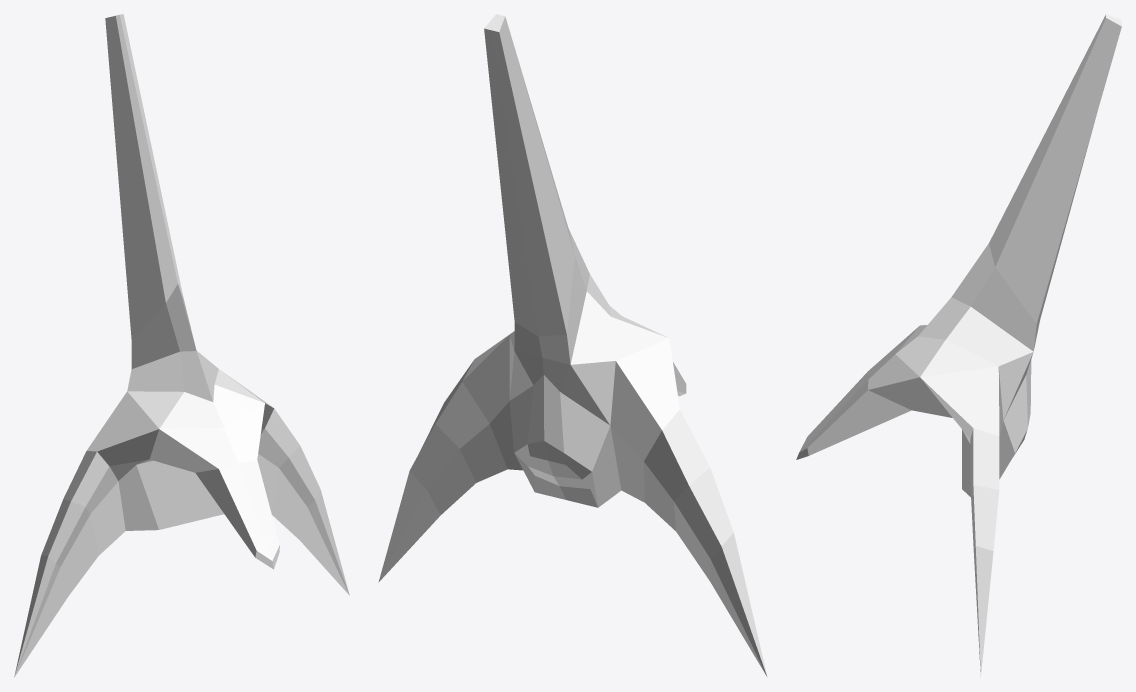
Rendered from head_31.fbx.
The picture shows the model from 3 angles, left to right: view 1: azimuth 30°, elevation 25°; view 2: azimuth 150°, elevation 25°; view 3: azimuth 270°, elevation 25°; orthographic projection. The views are drawn at different scales.
Visible parts, largest first — view 1: Cube.159; view 2: Cube.159; view 3: Cube.159.
Part boxes in pixels (x1,y1,x2,y2): Cube.159: (14,14,349,677); Cube.159: (378,14,767,677); Cube.159: (796,14,1121,677).
Size of the model in its own units: 90.46 by 148 by 75.61.
